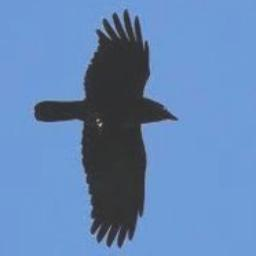Crow: (34, 9, 178, 248)
